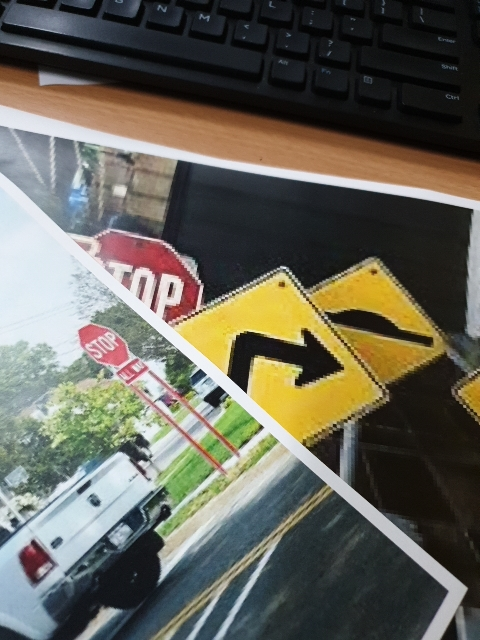right: (174, 246, 383, 433)
stop: (90, 216, 210, 345), (66, 312, 164, 407)
